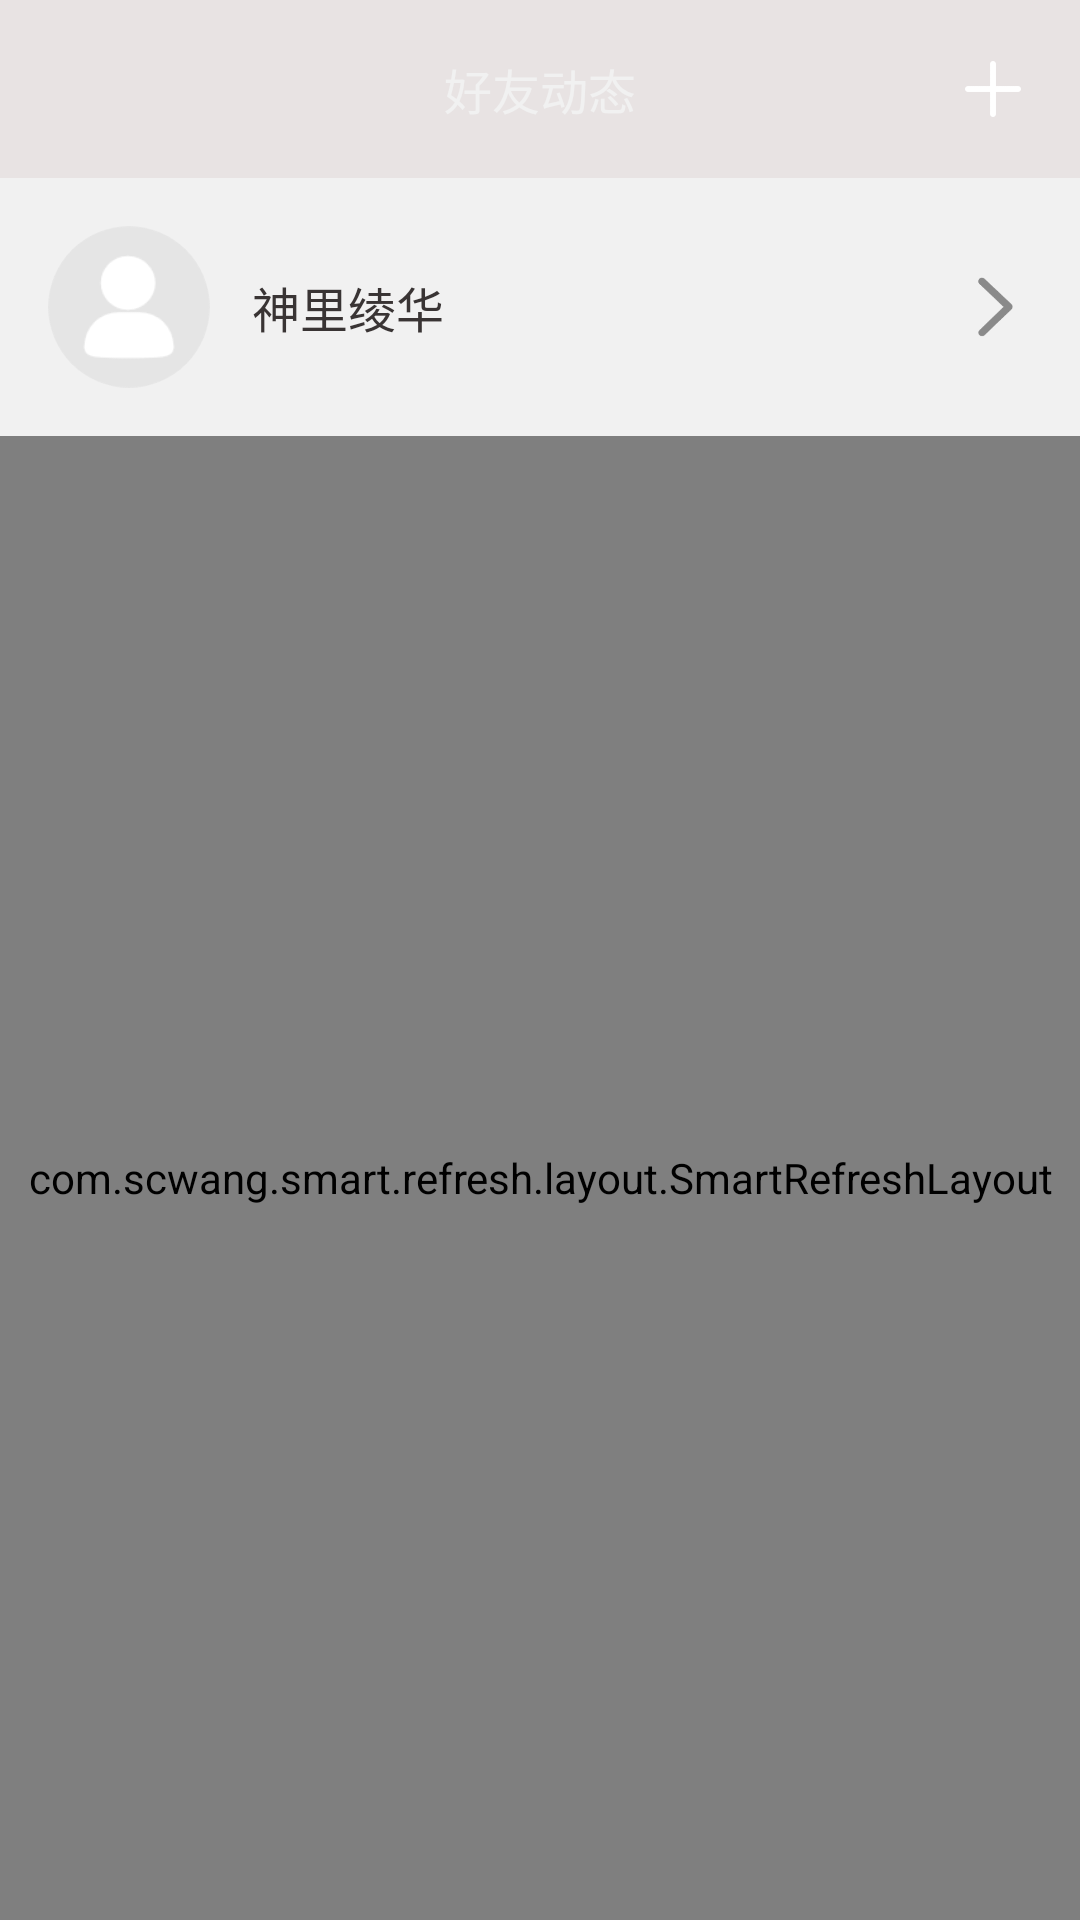

Icons on this 1080×1920 Android screen, each with its box as rect(x1, y1, x2, y2):
add: rect(965, 61, 1021, 117)
right: rect(978, 278, 1013, 336)
